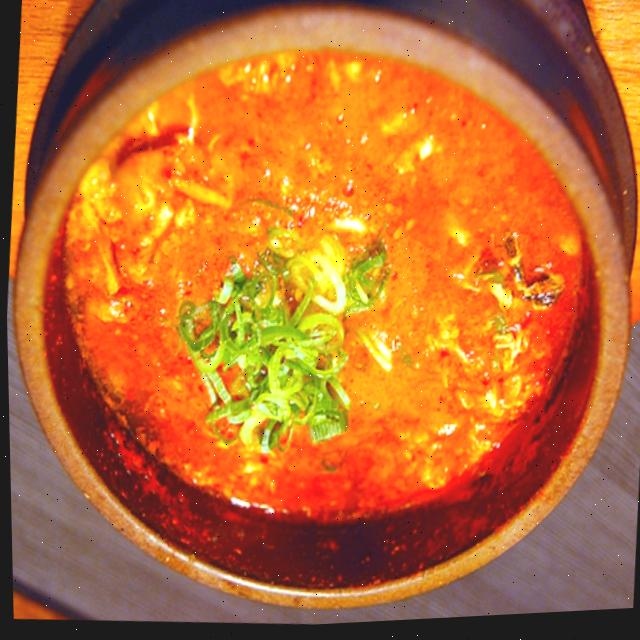熟制海鲜: (10, 569, 25, 619)
